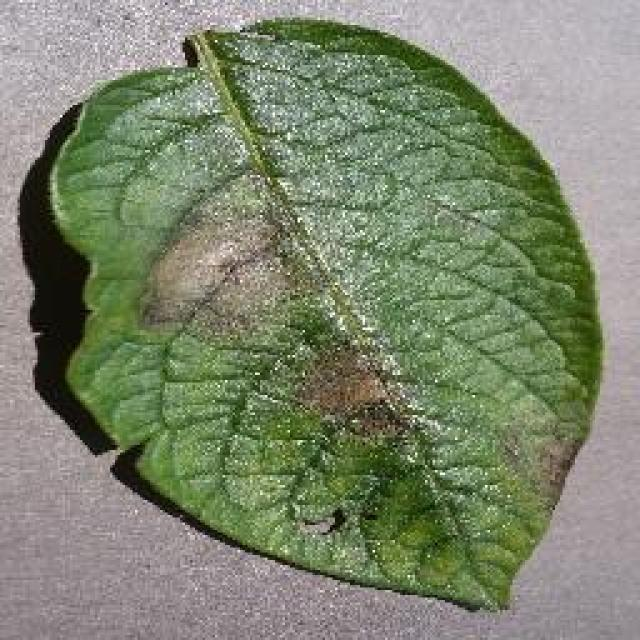Potato___Late_blight: (43, 18, 604, 616)
